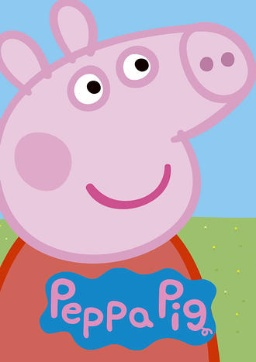Peppa: (1, 1, 256, 361)
